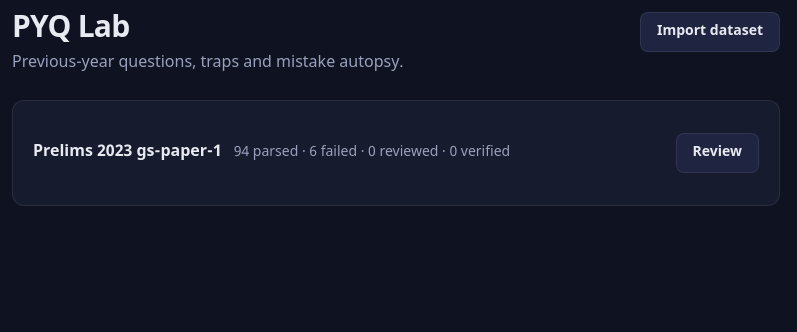
PYQ screen › opens a paper, filters by status and shows each question with a status label
Later steps or results of the test are not shown.
Click the button with aria-label "review prelims 2023 gs-paper-1": (717, 153) [676,133,759,173]
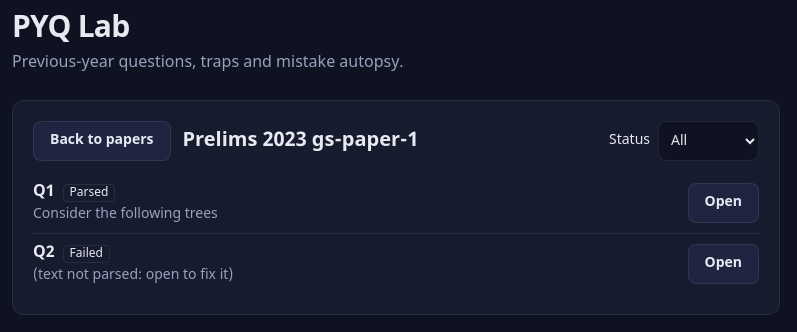
Expected: the text "Consider the following trees" is shown, [33,205,218,225]
